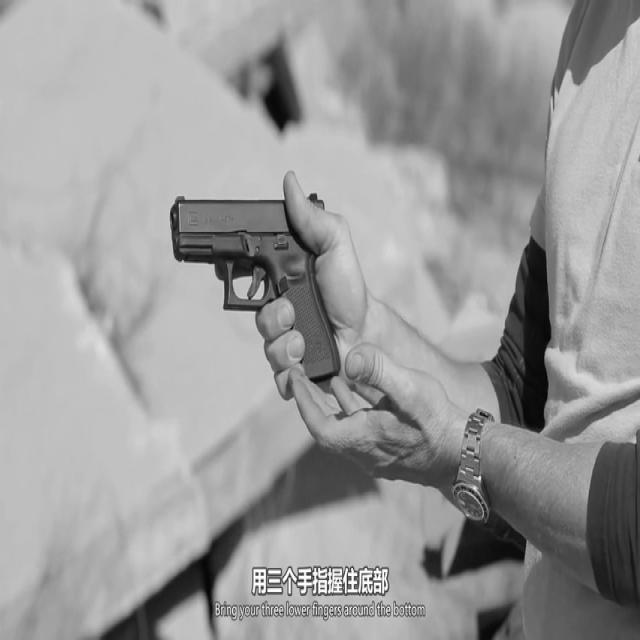Hand-Gun: (130, 165, 410, 575)
